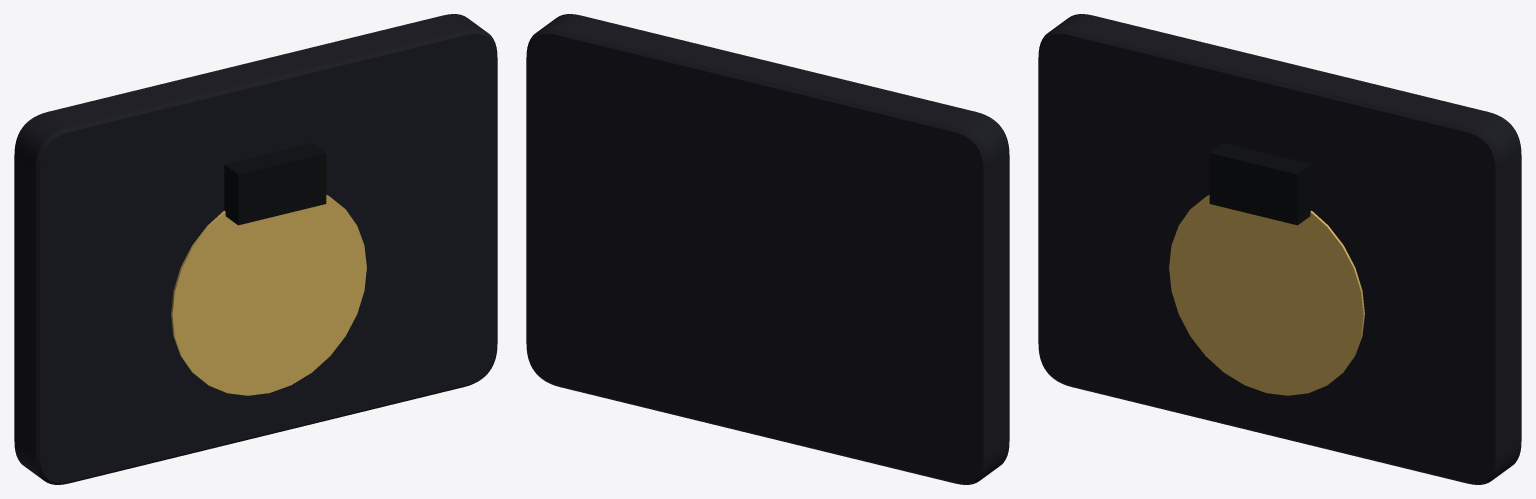
The model's file is ttp223.glb.
3 views of the same model, side by side, from view 1: azimuth 30°, elevation 25°; view 2: azimuth 150°, elevation 25°; view 3: azimuth 330°, elevation 25° (orthographic).
Visible parts, largest first — view 1: TTP223; view 2: TTP223; view 3: TTP223.
Boxes of the visible parts, x1,y1,x2,y2 form: TTP223: (14,14,497,484); TTP223: (526,14,1009,484); TTP223: (1038,14,1521,484).
Size of the model in its own units: 15.2 by 11.2 by 2.2.
